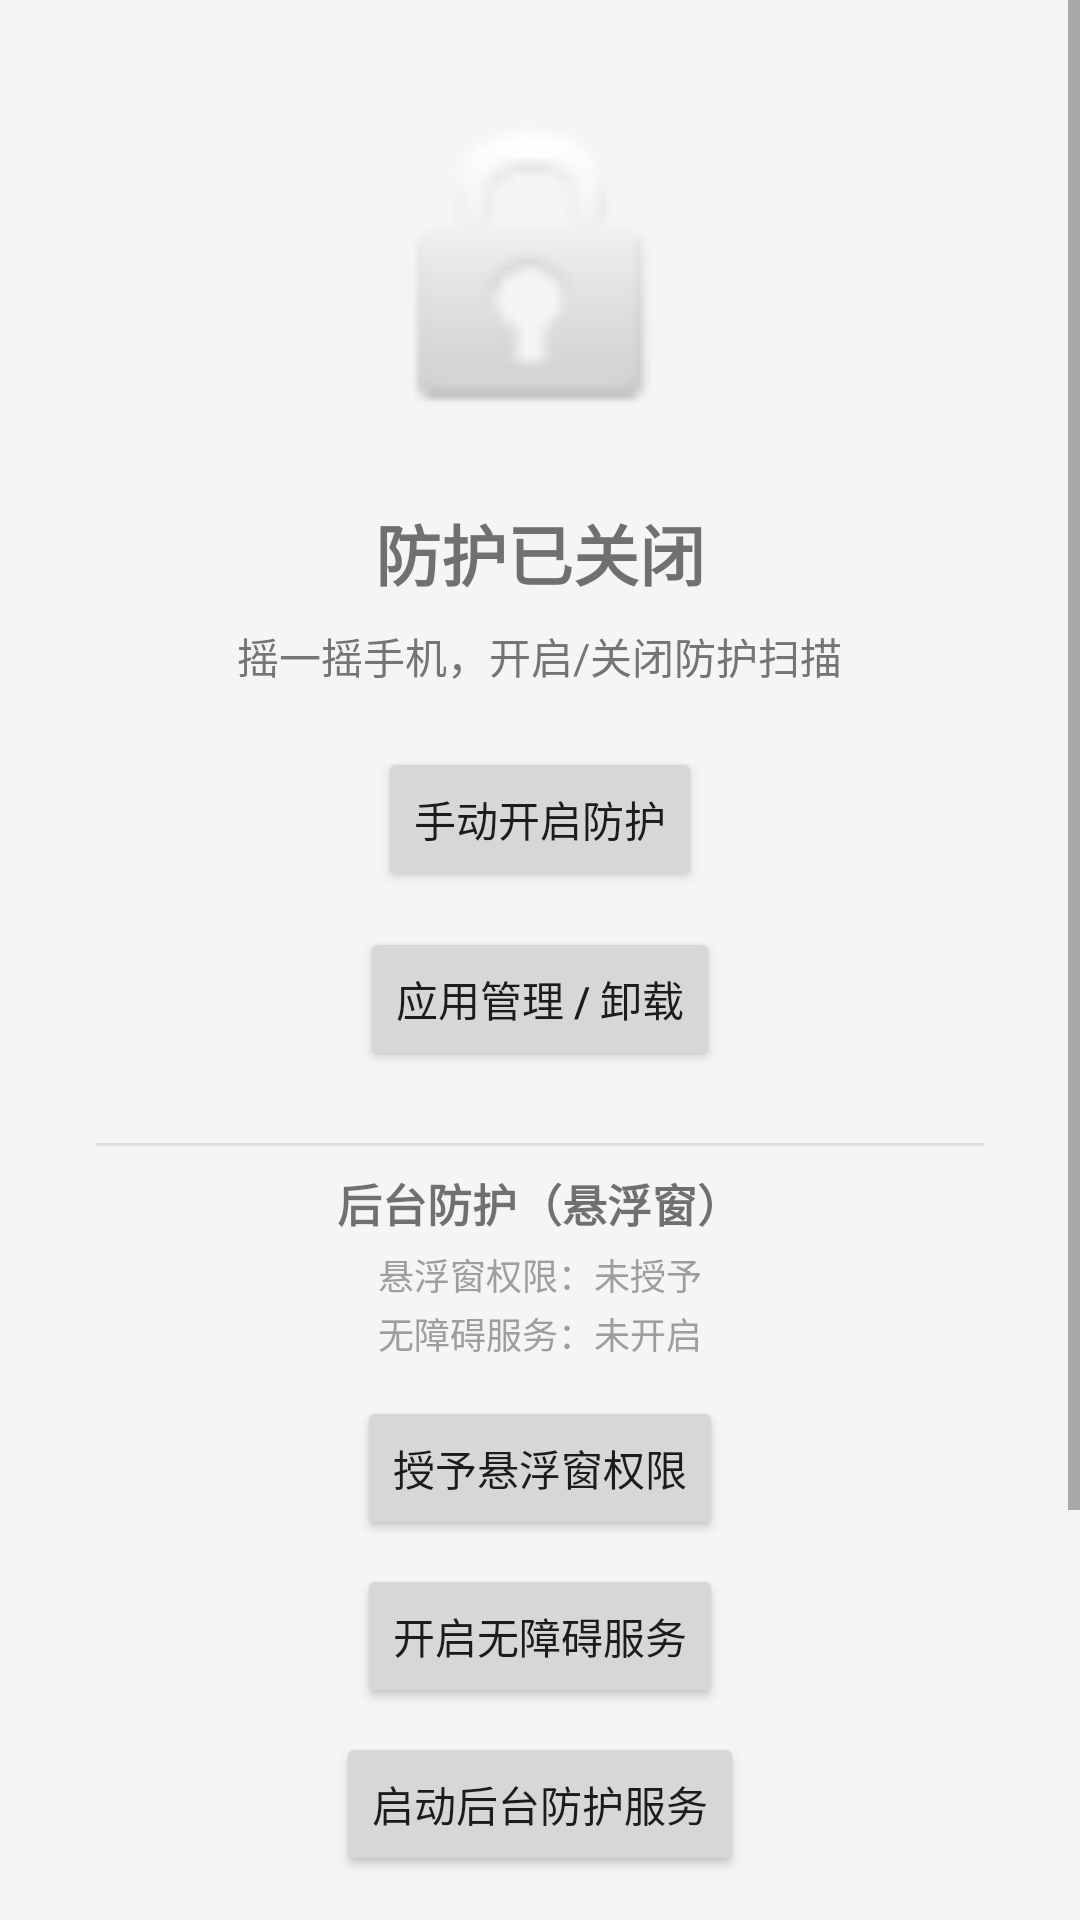

Screen size 1080px×1920px. Icon name, then its center in pixels as point (x, y):
防护图标: point (530, 330)
